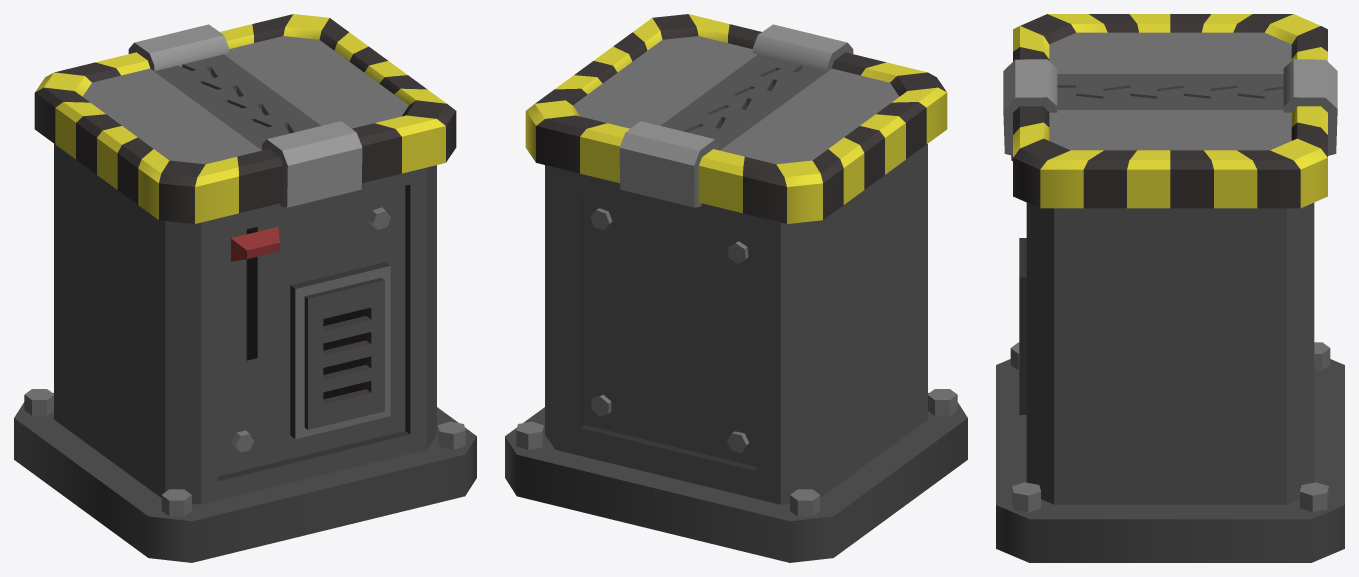
File: disposal bin.fbx
3 views of the same model, side by side, from view 1: azimuth 30°, elevation 25°; view 2: azimuth 150°, elevation 25°; view 3: azimuth 270°, elevation 25° (orthographic). The views are drawn at different scales.
Visible parts, largest first — view 1: Disposal Bin, Disposal Bin Lid L, Disposal Bin Lid R; view 2: Disposal Bin, Disposal Bin Lid L, Disposal Bin Lid R; view 3: Disposal Bin, Disposal Bin Lid R, Disposal Bin Lid L.
Part boxes in pixels (box(x1,y1,x2,y2)): Disposal Bin: box(14, 14, 476, 562); Disposal Bin Lid L: box(182, 36, 408, 133); Disposal Bin Lid R: box(82, 65, 289, 164); Disposal Bin: box(505, 14, 967, 562); Disposal Bin Lid L: box(573, 36, 801, 132); Disposal Bin Lid R: box(688, 66, 899, 164); Disposal Bin: box(996, 14, 1344, 562); Disposal Bin Lid R: box(1049, 32, 1291, 98); Disposal Bin Lid L: box(1049, 87, 1291, 150).
Bounding box in the file's own units: 0.7144 × 0.7928 × 0.626.
